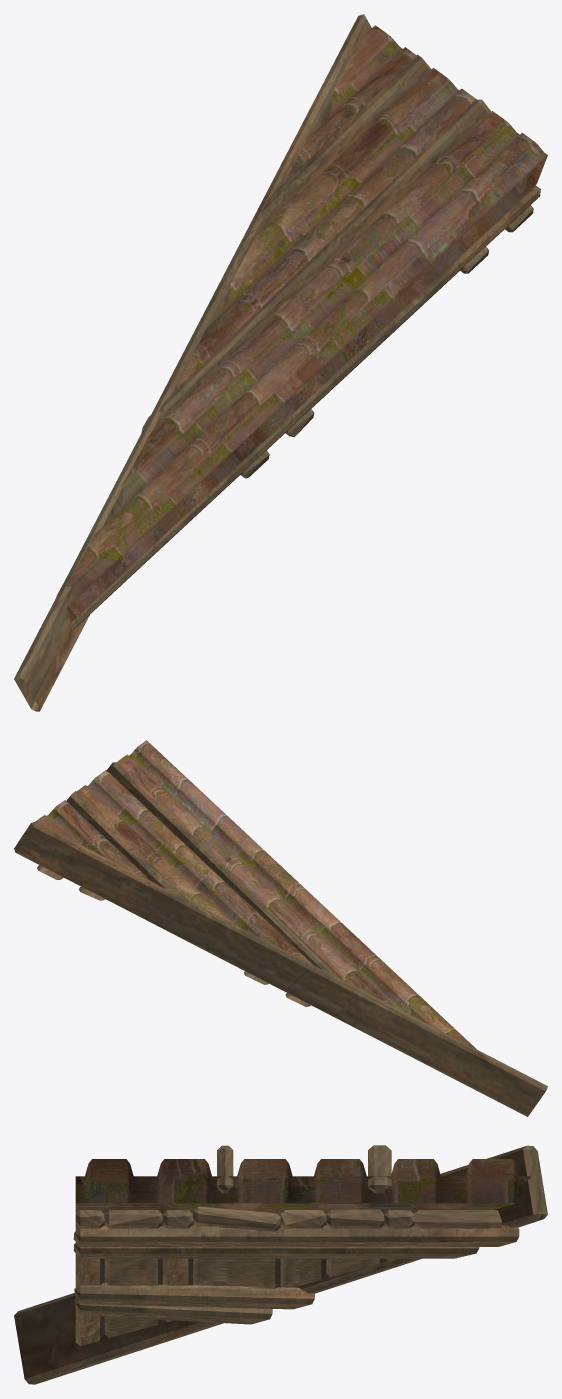
The model's file is SM_roof_01_base_05.fbx.
The picture shows the model from 3 angles, top to bottom: view 1: azimuth 30°, elevation 25°; view 2: azimuth 150°, elevation 25°; view 3: azimuth 270°, elevation 25°; orthographic projection. The views are drawn at different scales.
Visible parts, largest first — view 1: SM_roof_01_base_05_LOD0; view 2: SM_roof_01_base_05_LOD0; view 3: SM_roof_01_base_05_LOD0.
Part boxes in pixels (x1,y1,x2,y2): SM_roof_01_base_05_LOD0: (14, 14, 547, 711); SM_roof_01_base_05_LOD0: (14, 740, 547, 1116); SM_roof_01_base_05_LOD0: (14, 1145, 547, 1384).
Bounding box in the file's own units: 376 × 235 × 276.
2 materials, 2 textured.
